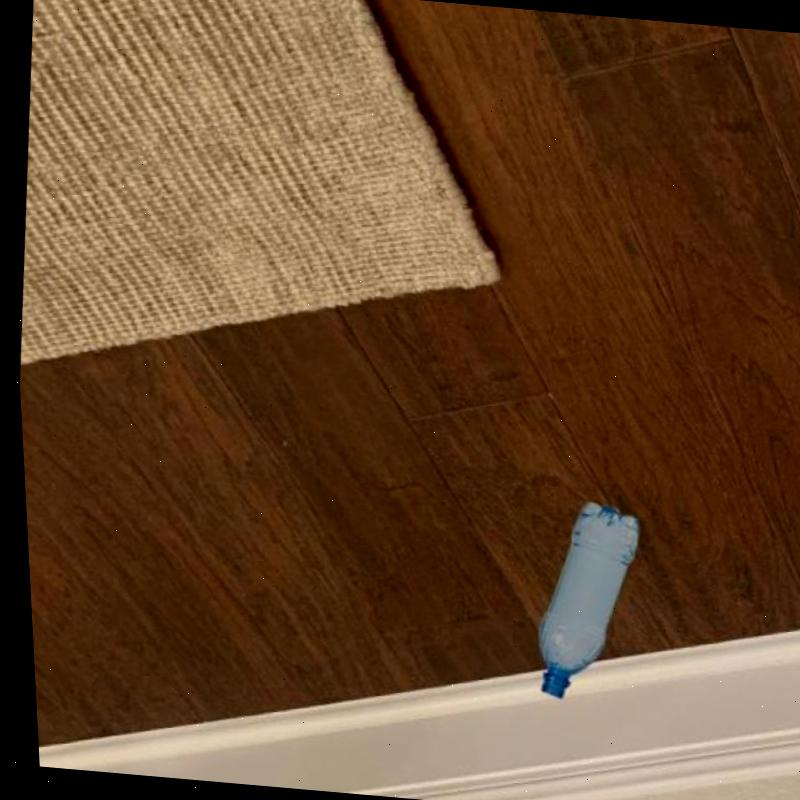botella: (520, 498, 647, 704)
